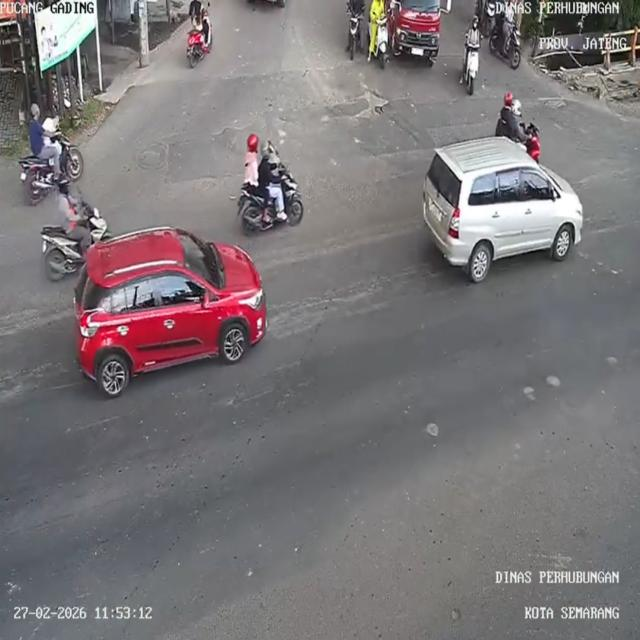motorcycle: (41, 202, 110, 284), (240, 168, 307, 233), (20, 143, 86, 207), (489, 27, 524, 72), (182, 28, 219, 70), (462, 39, 482, 98), (345, 16, 364, 64), (375, 17, 392, 69)
person: (26, 100, 62, 169), (52, 178, 86, 238), (256, 135, 286, 201), (243, 134, 263, 189), (499, 90, 517, 133), (186, 1, 207, 37), (510, 99, 527, 142), (465, 17, 483, 49), (497, 14, 517, 38), (347, 0, 367, 23), (370, 0, 387, 25)
rider_region: (37, 176, 112, 282), (237, 132, 306, 238), (17, 101, 86, 201), (457, 14, 484, 96), (490, 2, 522, 70), (186, 1, 214, 70), (366, 0, 391, 71), (343, 0, 368, 63)
